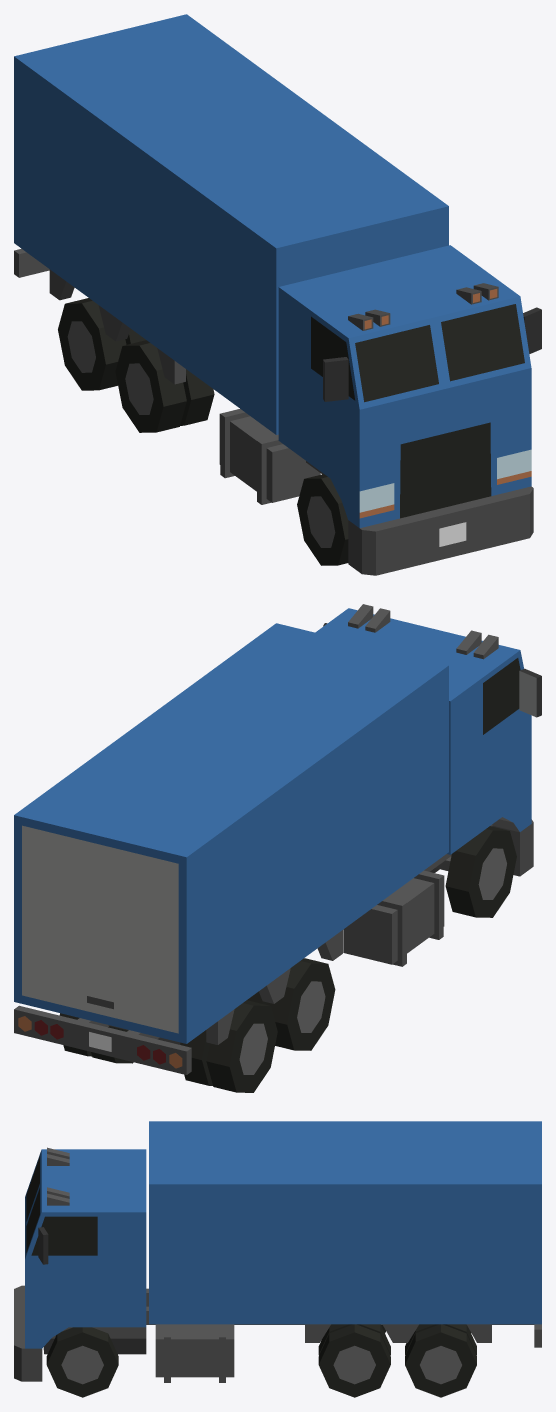
The model's file is Veh_Truck_03_Blue.obj.
3 renders of one model, top to bottom at view 1: azimuth 30°, elevation 25°; view 2: azimuth 150°, elevation 25°; view 3: azimuth 270°, elevation 25°, orthographic. The views are drawn at different scales.
Size of the model in its own units: 1.68 by 2.11 by 4.74.
